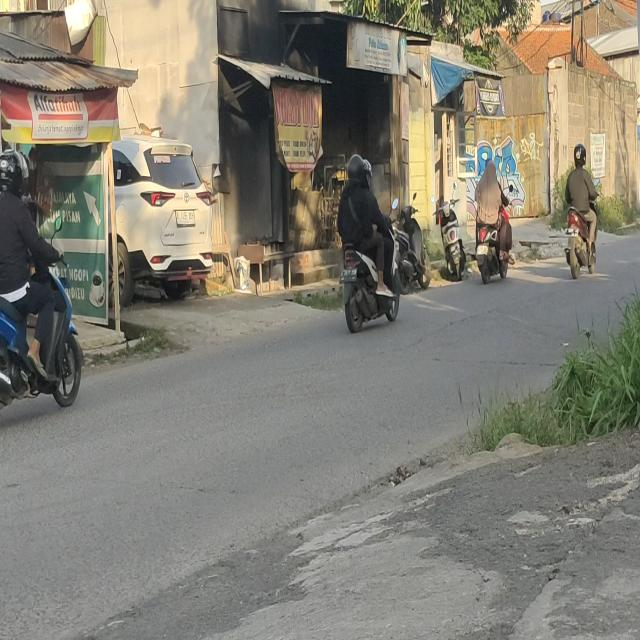helmet: (0, 147, 26, 195), (347, 155, 363, 182), (574, 142, 587, 166), (362, 159, 372, 183)
no-helmet: (486, 160, 496, 179)
